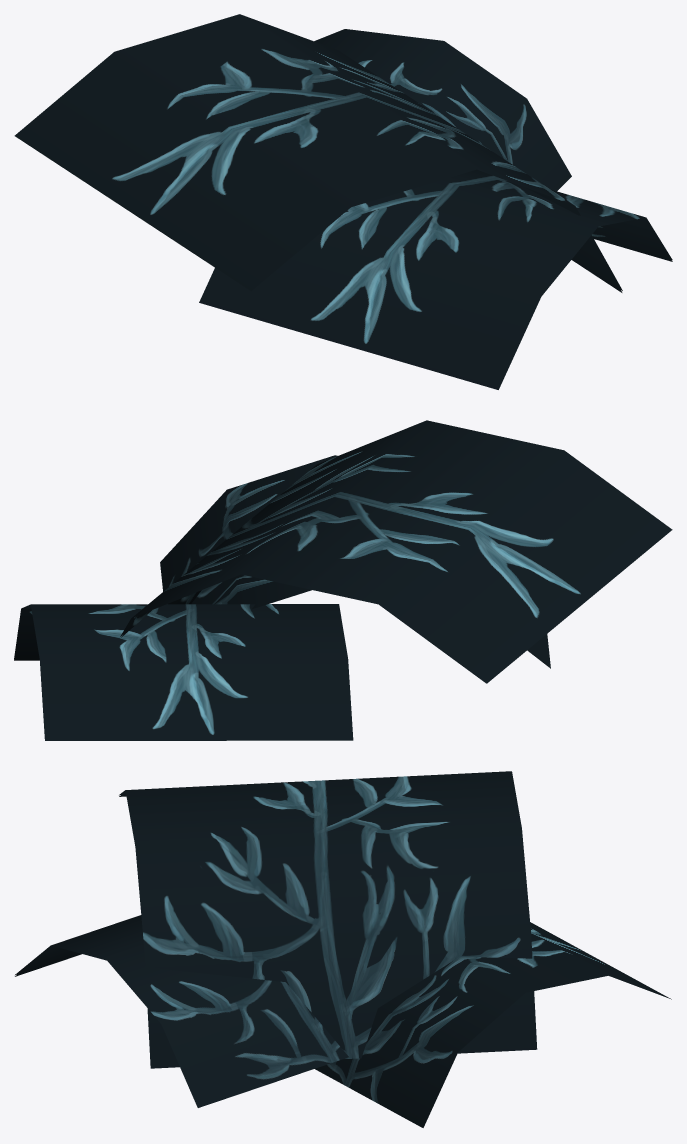
The model's file is zugplant_02.fbx.
3 views of the same model, one above another, from view 1: azimuth 30°, elevation 25°; view 2: azimuth 150°, elevation 25°; view 3: azimuth 270°, elevation 25° (orthographic). The views are drawn at different scales.
Visible parts, largest first — view 1: zug_plant_02; view 2: zug_plant_02; view 3: zug_plant_02.
Part boxes in pixels (bbox=[...]): zug_plant_02: bbox=[14, 14, 672, 389]; zug_plant_02: bbox=[14, 420, 672, 740]; zug_plant_02: bbox=[15, 771, 671, 1127].
Bounding box in the file's own units: 3.21 × 1.21 × 3.88.
